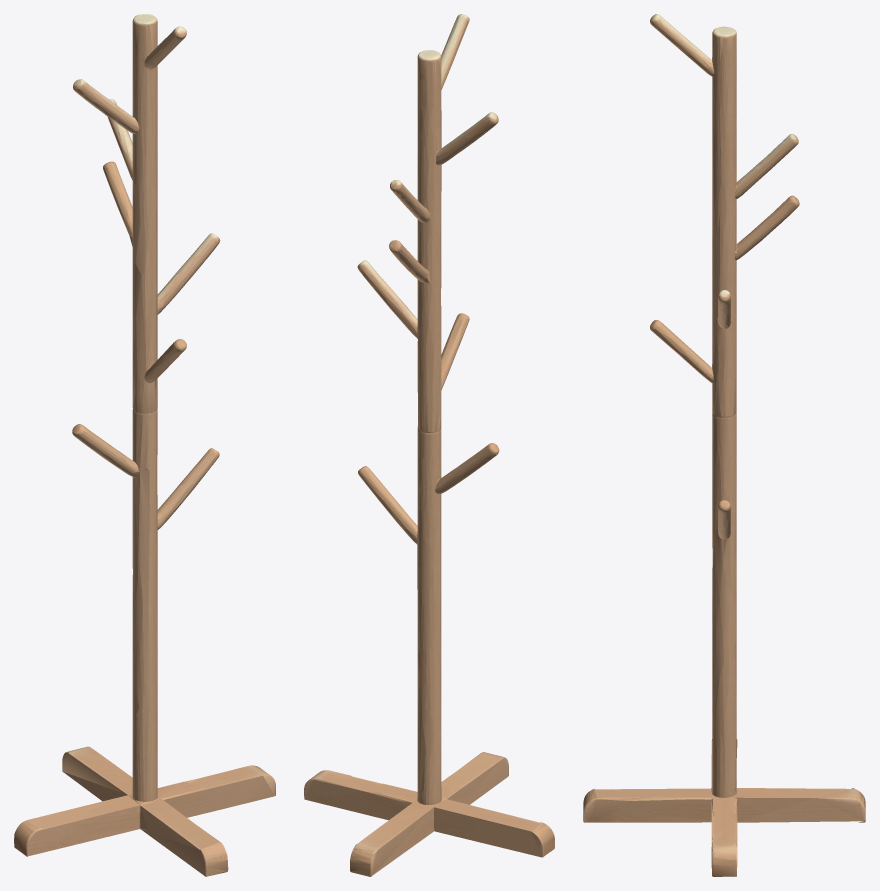
The model's file is coat_rack.glb.
The picture shows the model from 3 angles, left to right: view 1: azimuth 30°, elevation 25°; view 2: azimuth 150°, elevation 25°; view 3: azimuth 270°, elevation 25°; orthographic projection. The views are drawn at different scales.
Visible parts, largest first — view 1: 0; view 2: 0; view 3: 0.
Part boxes in pixels (<box>): 0: <box>14,14,275,876</box>; 0: <box>304,14,554,876</box>; 0: <box>583,14,865,876</box>.
Size of the model in its own units: 0.5576 by 1.75 by 0.558.
Materials: 1 (1 with a texture image).
